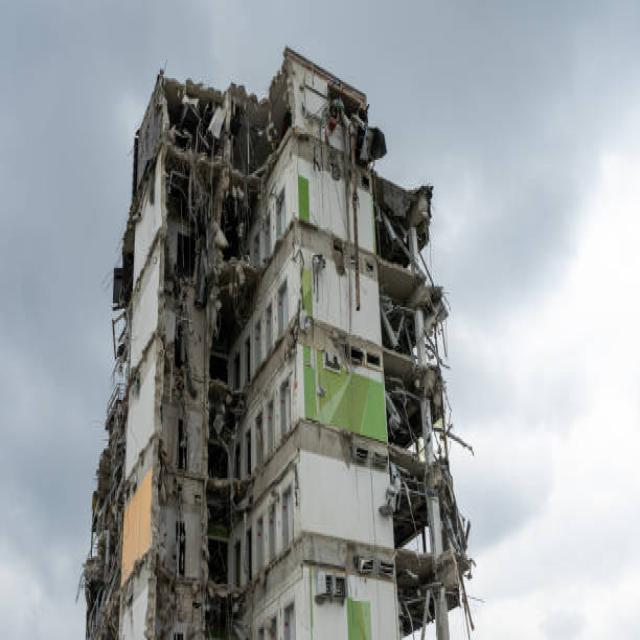Destroyed_building: (43, 3, 530, 640)
